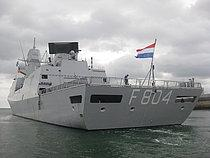MIL_Ship: (6, 34, 204, 130)
